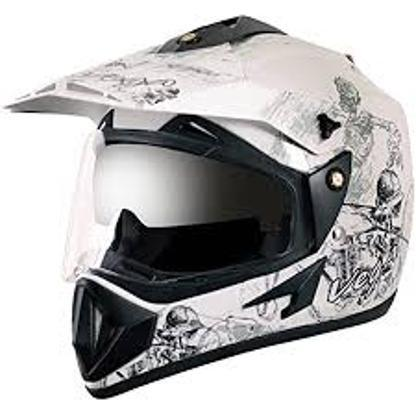not trash: (6, 13, 416, 408)
